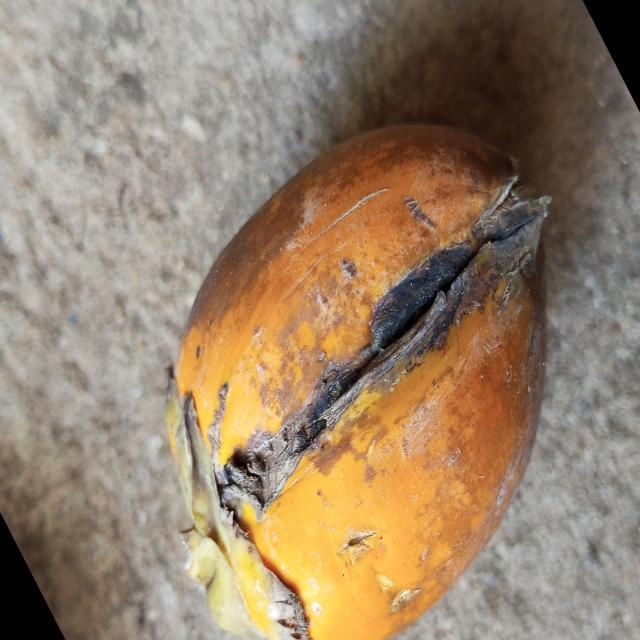damaged: (166, 126, 550, 640)
